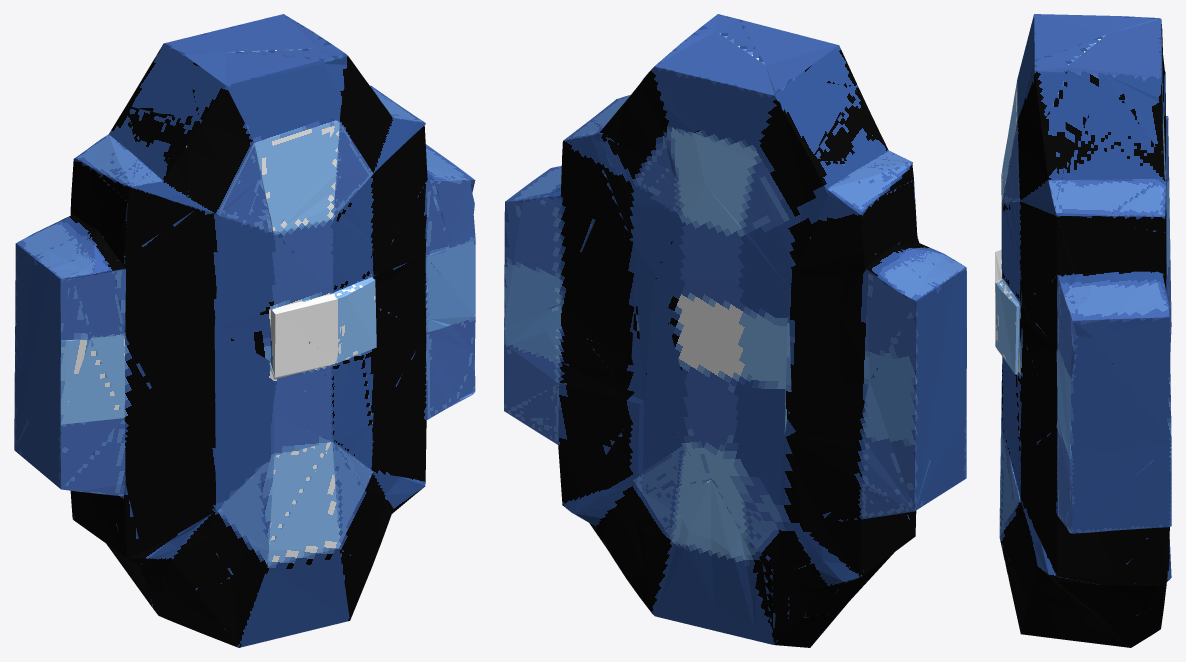
3 renders of one model, left to right at view 1: azimuth 30°, elevation 25°; view 2: azimuth 150°, elevation 25°; view 3: azimuth 270°, elevation 25°, orthographic.
Parts seen in each view (by area): view 1: OBJ0a6; view 2: OBJ0a6; view 3: OBJ0a6.
Boxes of the visible parts, <box> form: OBJ0a6: <box>14,14,475,647</box>; OBJ0a6: <box>504,14,966,647</box>; OBJ0a6: <box>995,14,1171,647</box>.
Size of the model in its own units: 0.149 by 0.1933 by 0.0547.
Materials: 1 (1 with a texture image).
